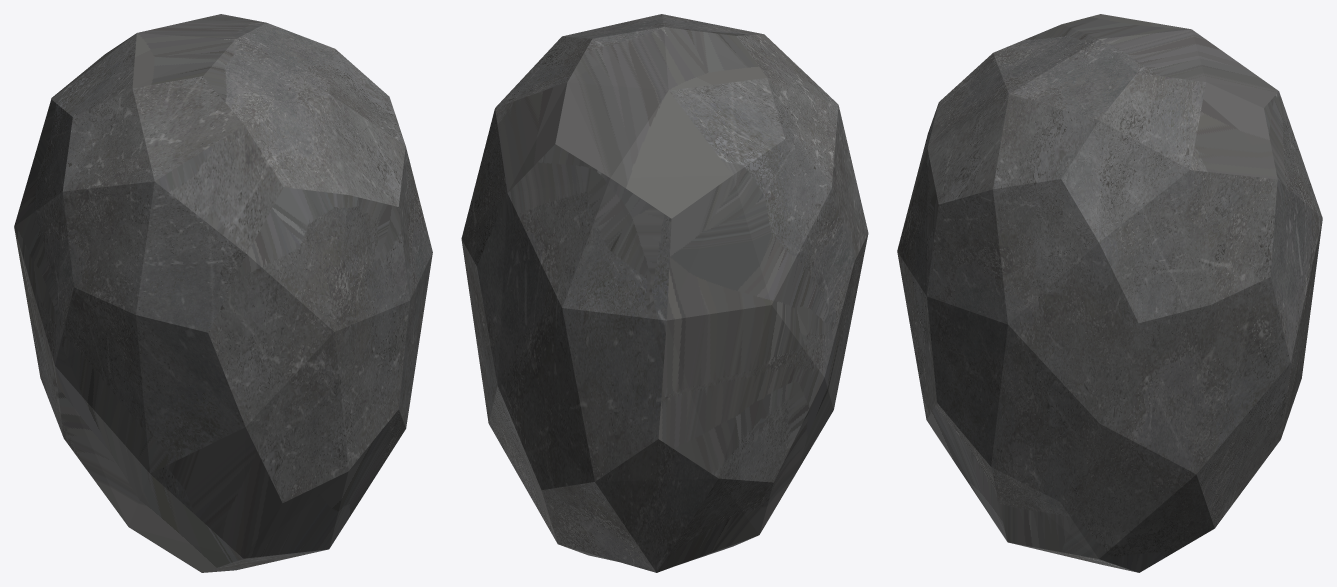
File: OrangeTreeBush.fbx
3 views of the same model, side by side, from view 1: azimuth 30°, elevation 25°; view 2: azimuth 150°, elevation 25°; view 3: azimuth 270°, elevation 25° (orthographic). The views are drawn at different scales.
Parts seen in each view (by area): view 1: OrangeTreeBush; view 2: OrangeTreeBush; view 3: OrangeTreeBush.
Part boxes in pixels (box(x1,y1,x2,y2)): OrangeTreeBush: box(14, 14, 432, 572); OrangeTreeBush: box(461, 14, 868, 572); OrangeTreeBush: box(897, 14, 1322, 572).
Size of the model in its own units: 4.91 by 7.33 by 5.39.
